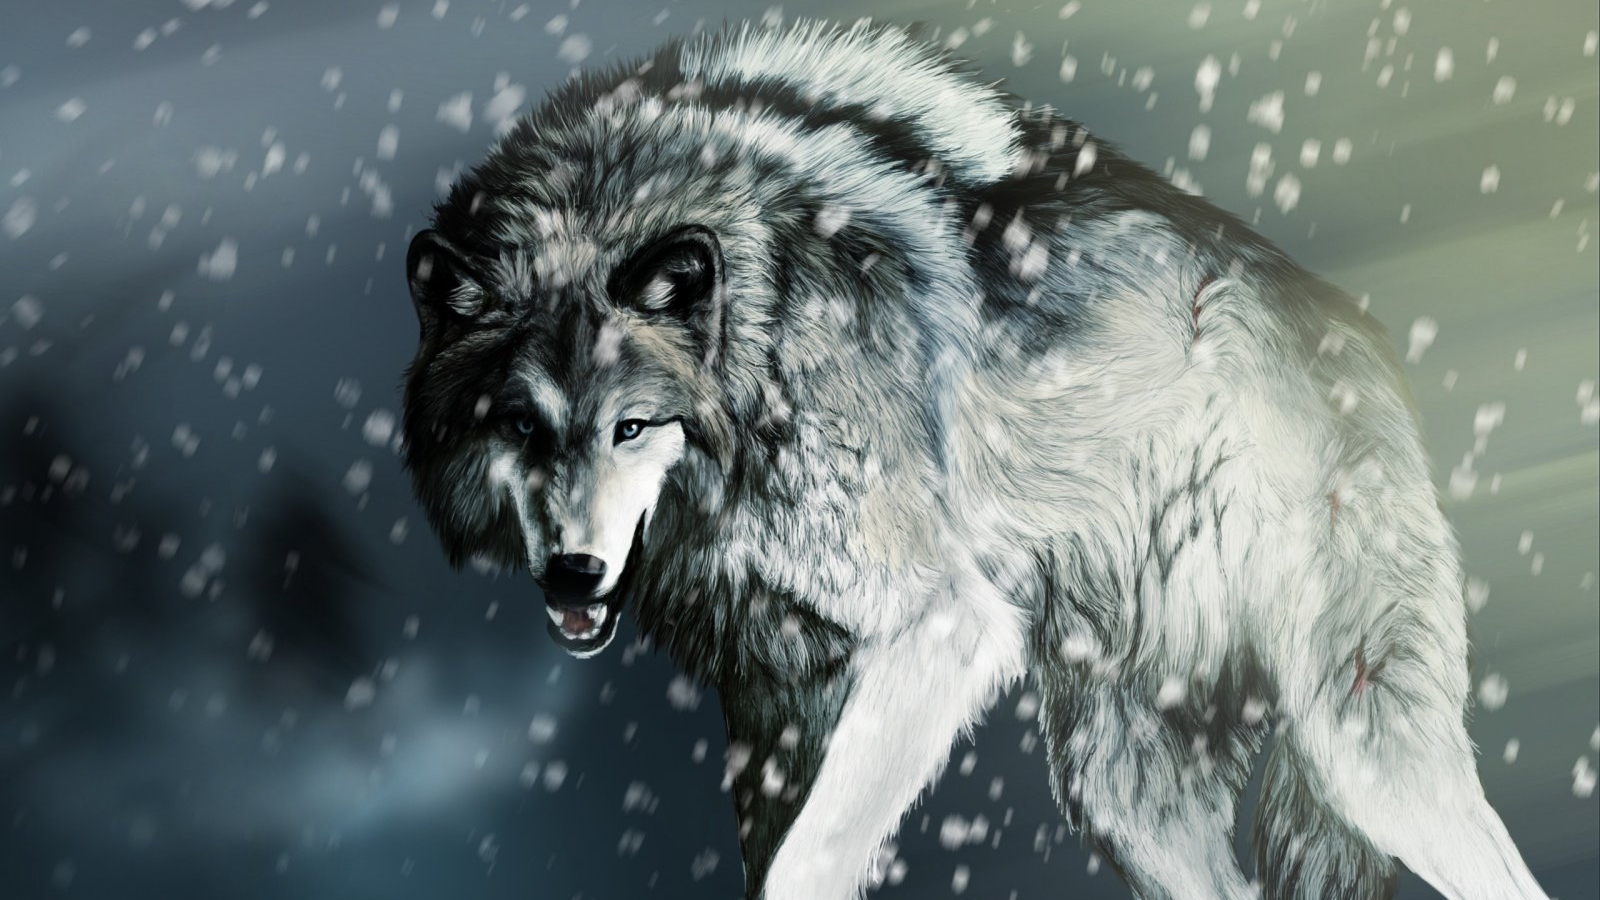Lobo: (331, 13, 1484, 879)
